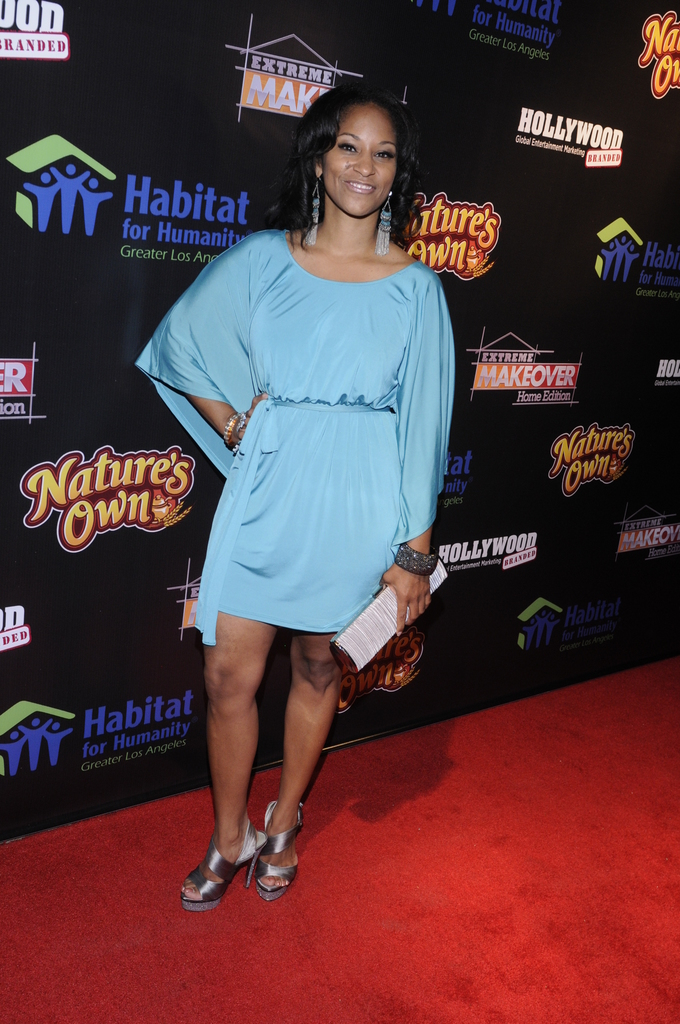Footwear: (175, 819, 262, 904)
